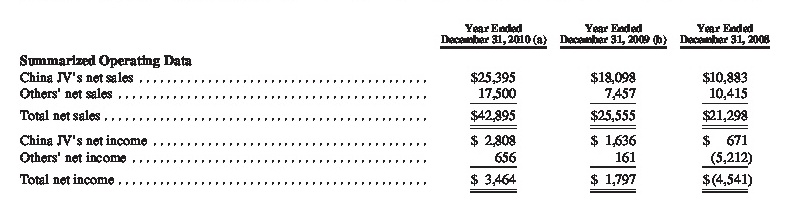table: (0, 0, 788, 217)
